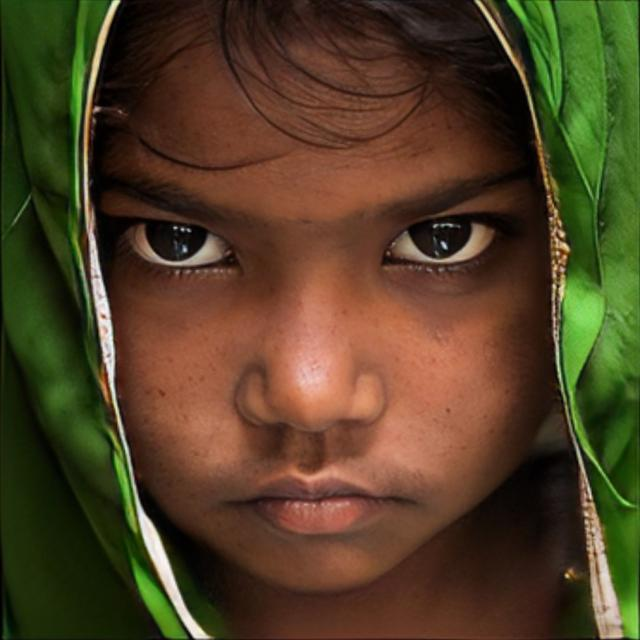anger: (101, 42, 535, 590)
